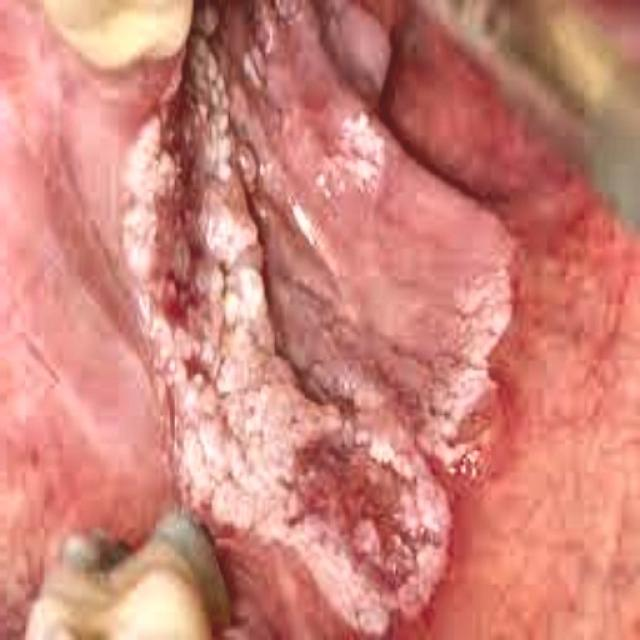cancer-detection: (115, 0, 526, 633)
processing_area: (0, 0, 639, 639)
